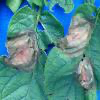Potato leaf late blight: (0, 5, 68, 100), (43, 3, 100, 99)
